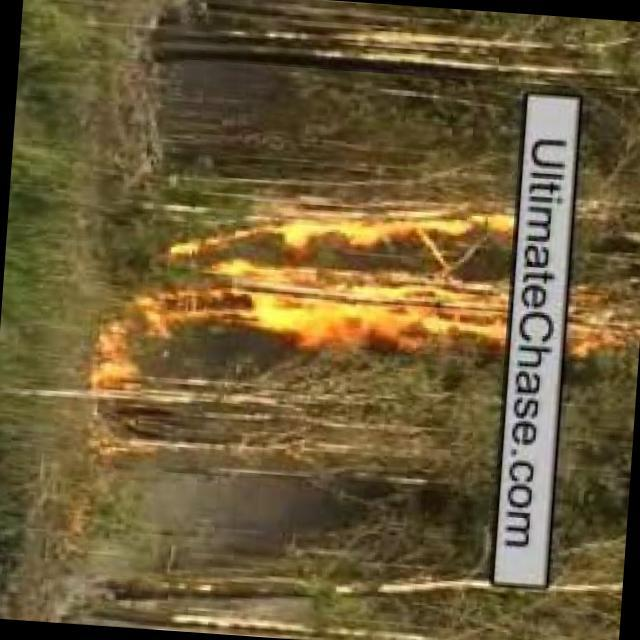Fire: (171, 186, 508, 349), (94, 293, 160, 388), (570, 286, 640, 353)
